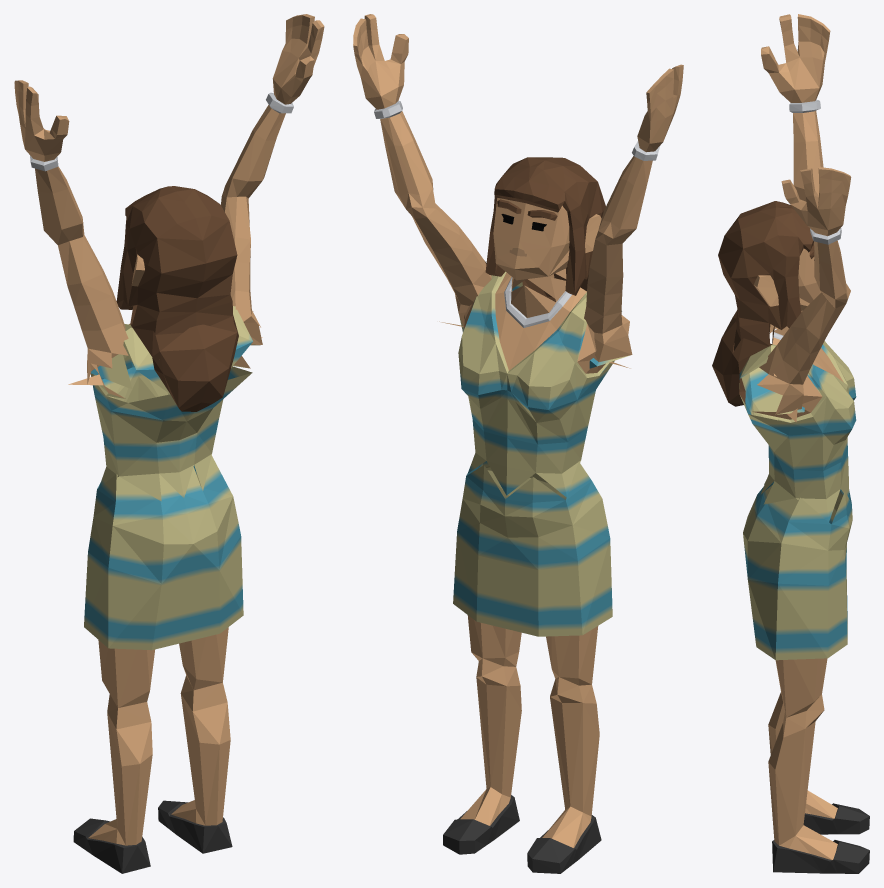
Rendered from Demon_Mother_02_cheer.obj.
3 renders of one model, left to right at view 1: azimuth 30°, elevation 25°; view 2: azimuth 150°, elevation 25°; view 3: azimuth 270°, elevation 25°, orthographic. The views are drawn at different scales.
Parts seen in each view (by area): view 1: Demon_Mother_02_cheer; view 2: Demon_Mother_02_cheer; view 3: Demon_Mother_02_cheer.
Boxes of the visible parts, x1,y1,x2,y2 form: Demon_Mother_02_cheer: (14, 14, 324, 873); Demon_Mother_02_cheer: (353, 14, 683, 873); Demon_Mother_02_cheer: (712, 14, 869, 873).
Size of the model in its own units: 0.8675 by 2.18 by 0.4076.
Materials: 1 (1 with a texture image).
